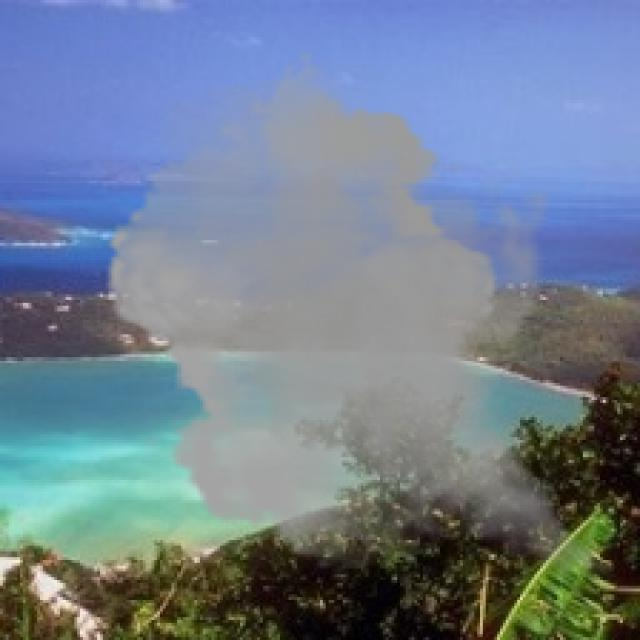smoke: (92, 49, 637, 588)
